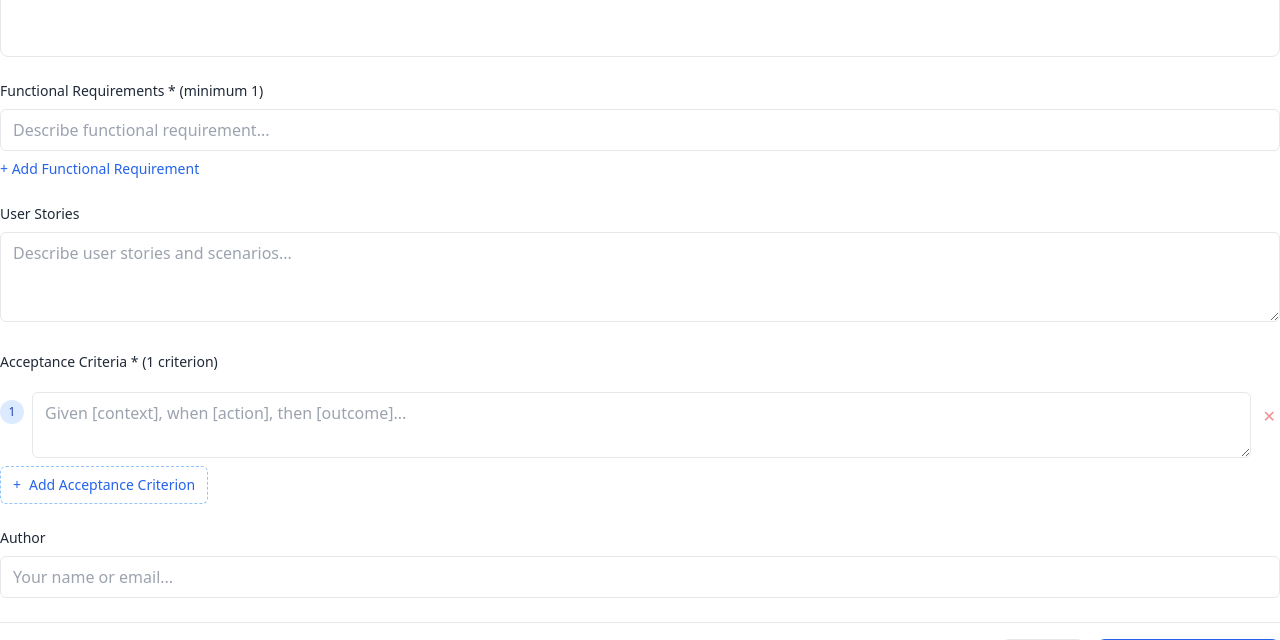
Test: RequirementForm - Acceptance Criteria Management › Performance and Edge Cases › should handle rapid successive operations
(page scrolled)
Click the button titled "Add acceptance criterion" at (104, 485), box 0,466 -> 208,504
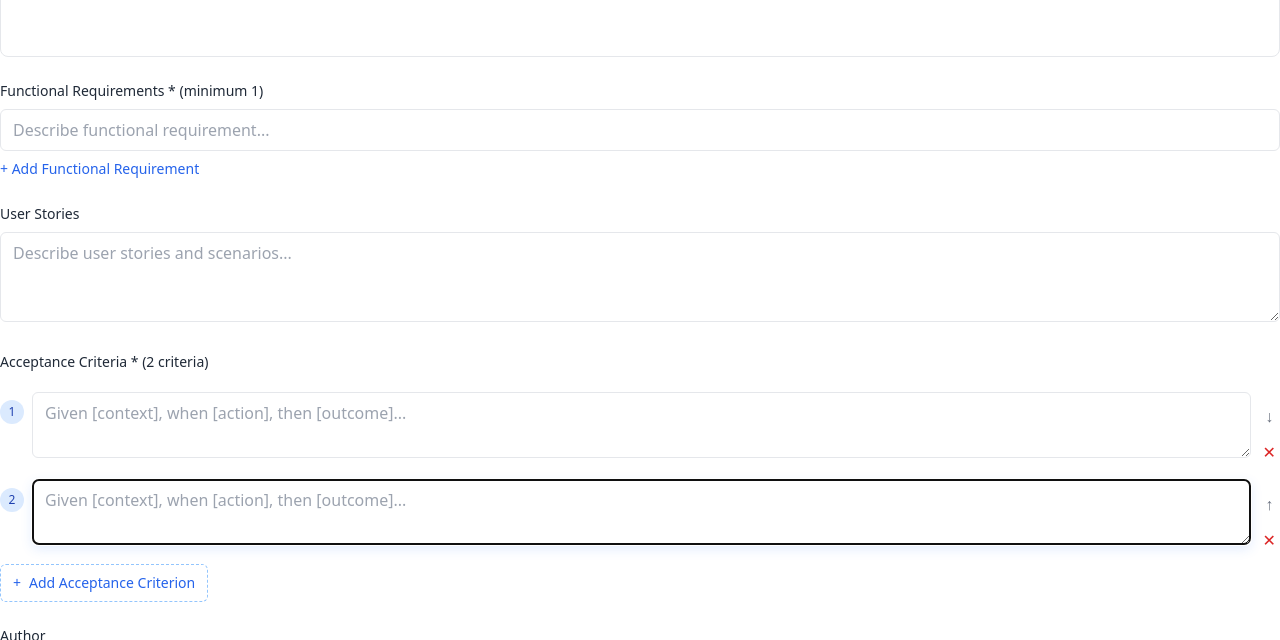
Click the button titled "Add acceptance criterion" at (104, 583), box 0,564 -> 208,602
(page scrolled)
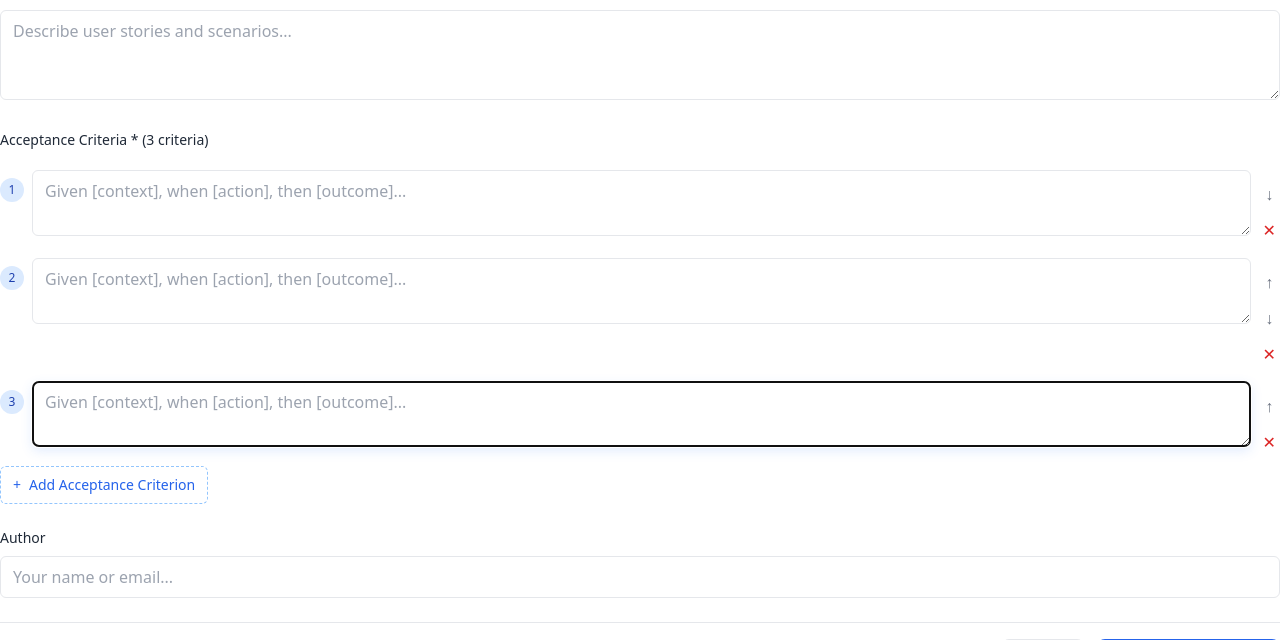
Click the button titled "Add acceptance criterion" at (104, 485), box 0,466 -> 208,504
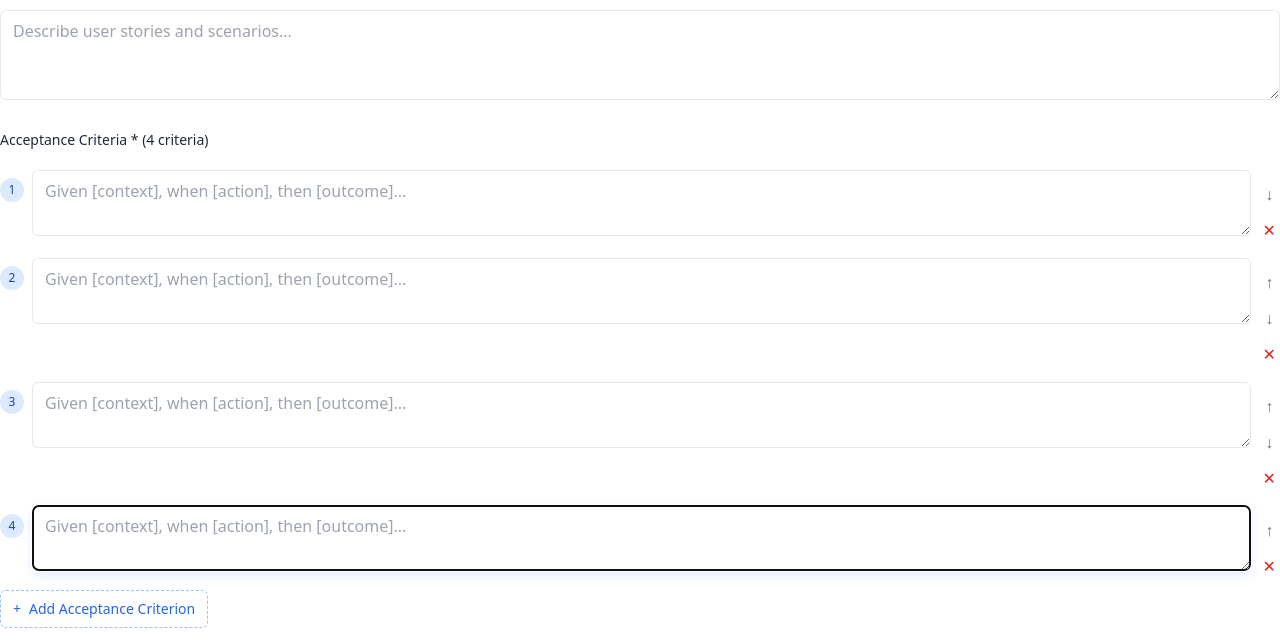
Click the button titled "Add acceptance criterion" at (104, 609), box 0,590 -> 208,628
(page scrolled)
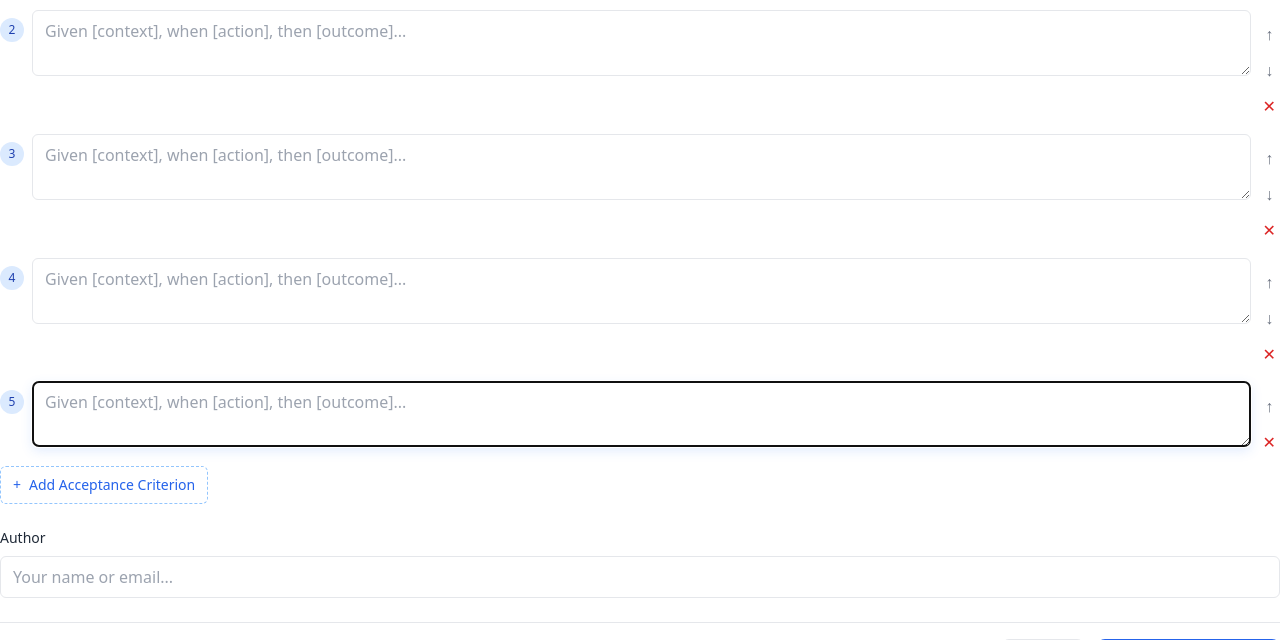
Click the button titled "Add acceptance criterion" at (104, 485), box 0,466 -> 208,504
(page scrolled)
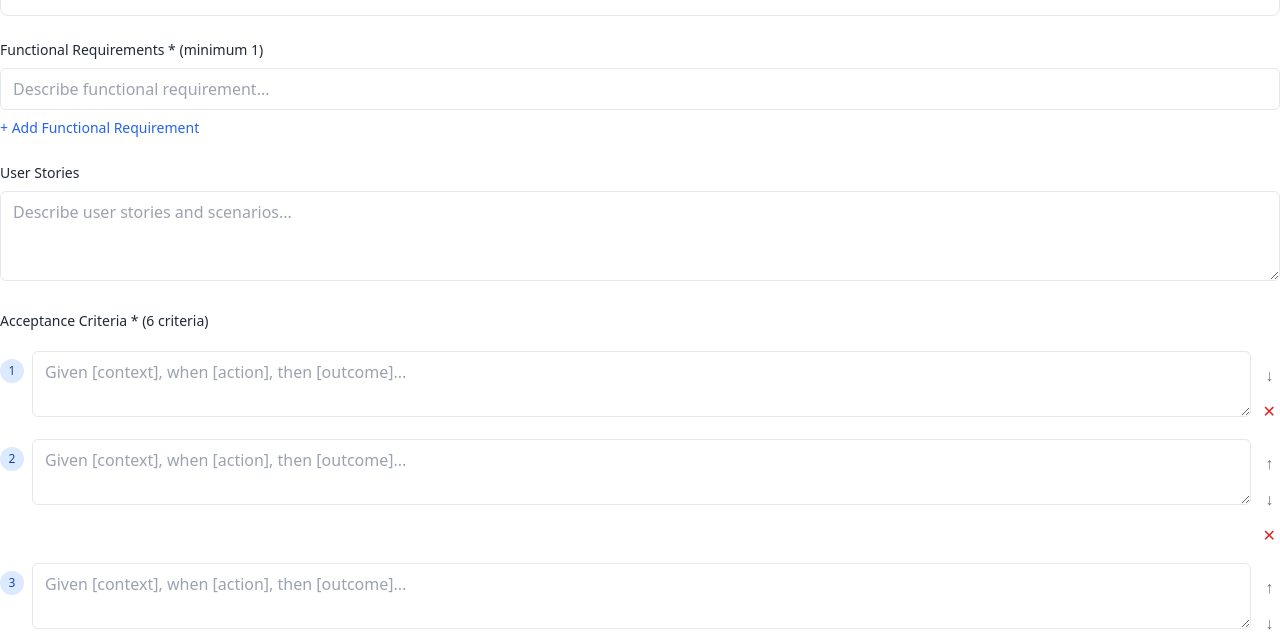
Now the text "Acceptance Criteria * (6 criteria)" is shown, box 0,311 -> 208,331
Now the number of text boxes with placeholder "Given [context], when [action], then [outcome]..." is 6
